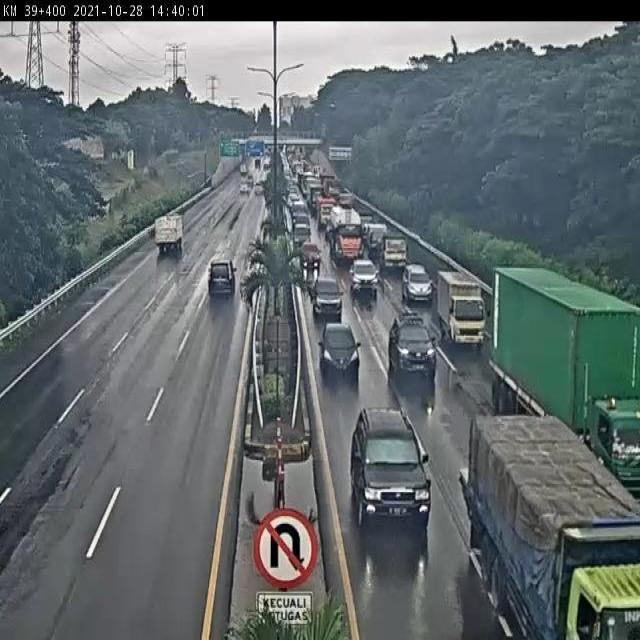big truck: (488, 262, 640, 494), (328, 205, 364, 264)
car: (346, 406, 432, 530), (388, 312, 439, 377), (320, 323, 361, 376), (310, 275, 345, 320), (401, 260, 433, 303), (348, 254, 381, 294), (206, 258, 239, 298), (298, 239, 322, 269)
small truck: (436, 266, 483, 346), (154, 213, 186, 256), (378, 228, 409, 268)
